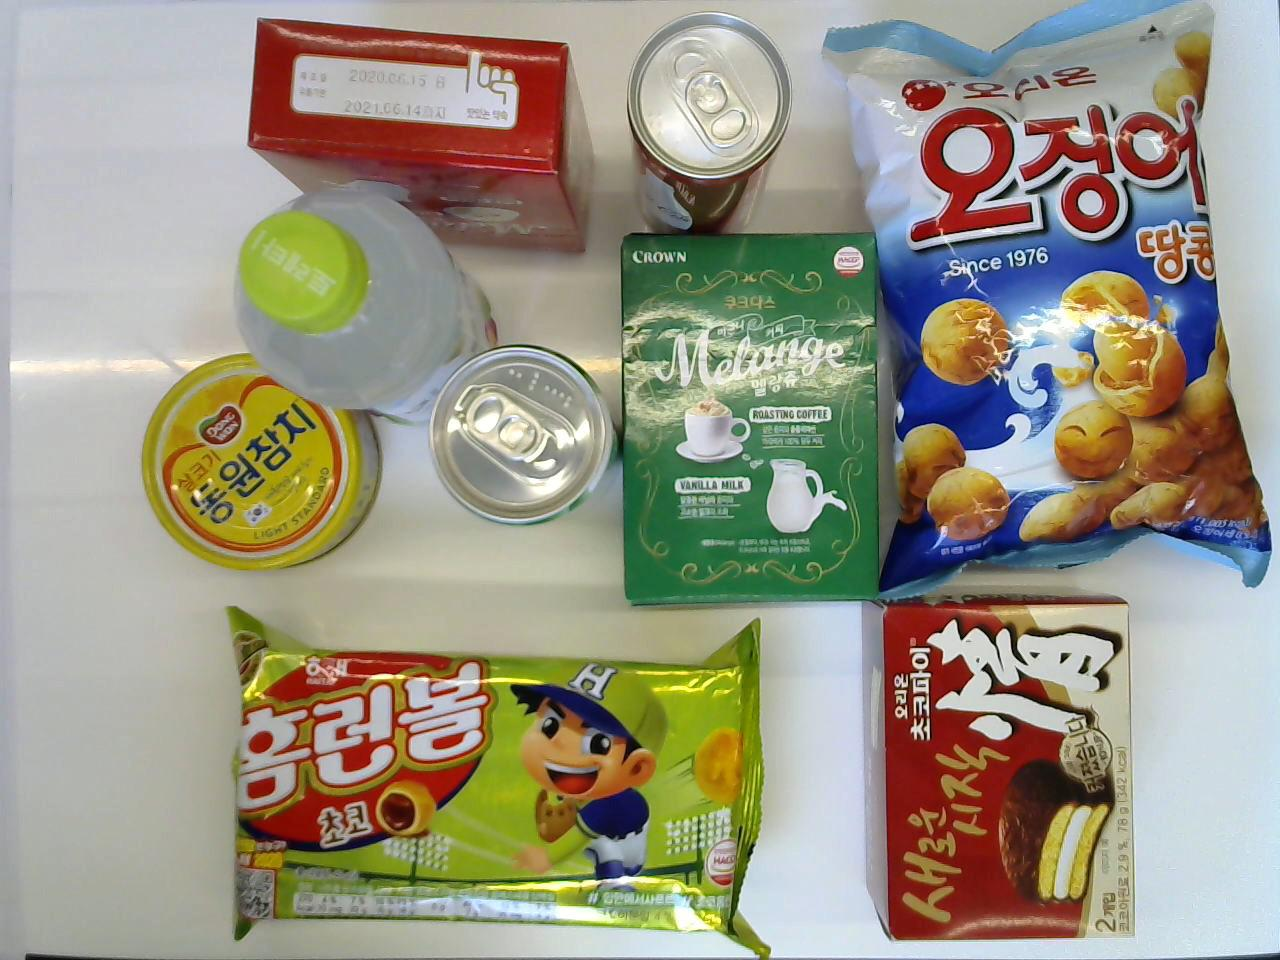chocopie: (849, 596, 1142, 946)
cidar: (428, 339, 615, 527)
coke: (618, 3, 792, 243)
couque_coffee: (615, 229, 889, 612)
couque_white: (244, 12, 593, 257)
homerunball: (218, 599, 783, 956)
squid_peanut: (818, 0, 1272, 594)
toreta: (232, 187, 505, 433)
tuna: (139, 349, 388, 577)
